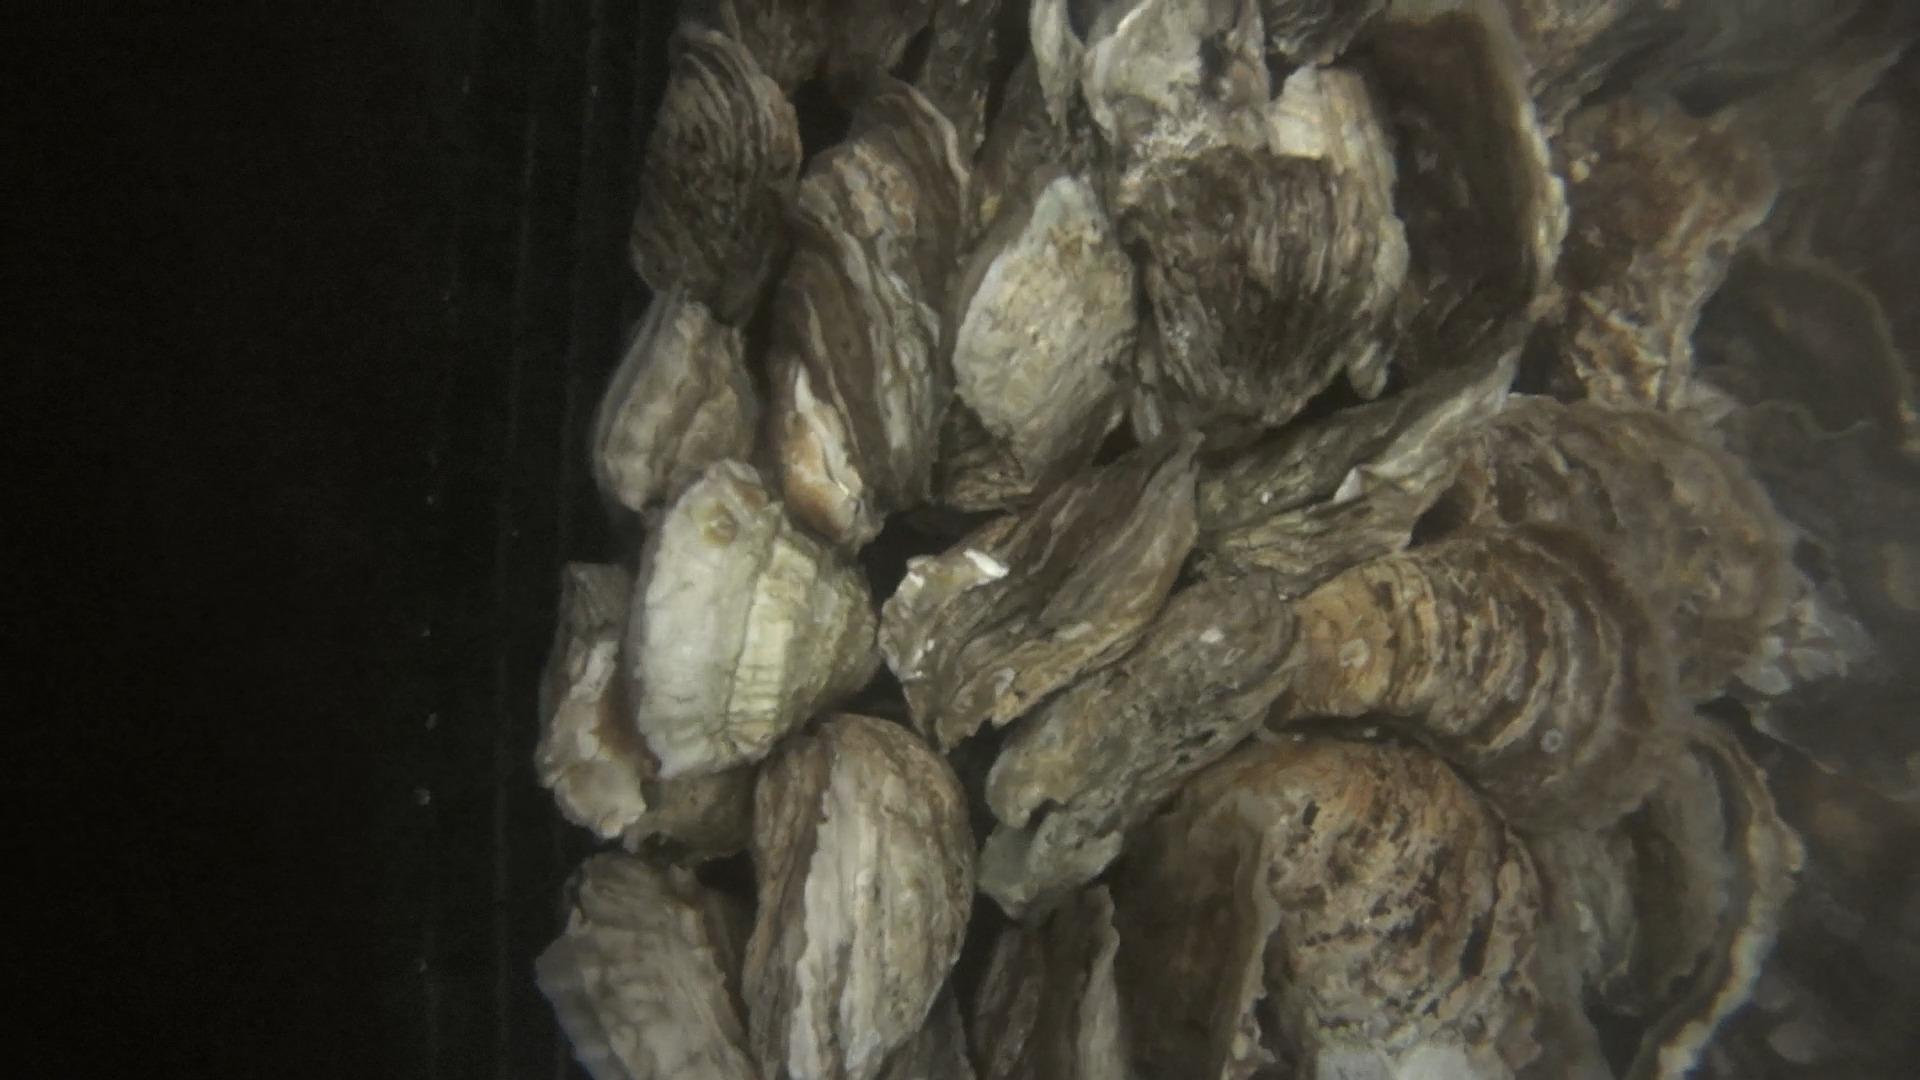3: (1203, 352, 1516, 568), (1625, 702, 1803, 1080), (593, 294, 746, 516), (972, 884, 1126, 1080)
Oyster- Indeterminate: (1201, 728, 1581, 1080), (1283, 533, 1687, 837), (986, 541, 1302, 918), (758, 109, 1002, 541), (1112, 79, 1396, 431), (1476, 396, 1799, 702), (746, 715, 964, 1080), (1348, 11, 1557, 373), (633, 465, 874, 777), (1547, 102, 1778, 415), (537, 563, 745, 865)
Oyster-Closed: (882, 450, 1203, 749), (939, 175, 1133, 476), (527, 849, 752, 1080), (632, 28, 796, 327)
